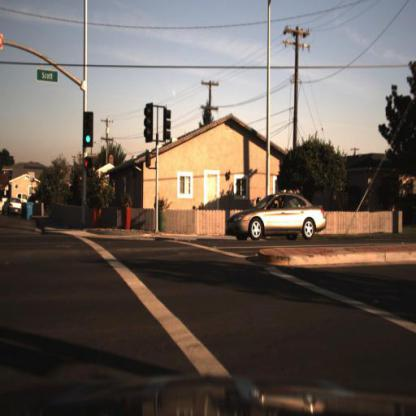car: (226, 192, 328, 247)
